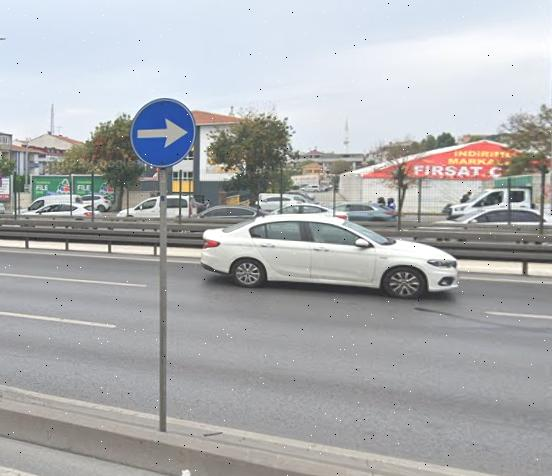turnright: (133, 98, 195, 168)
